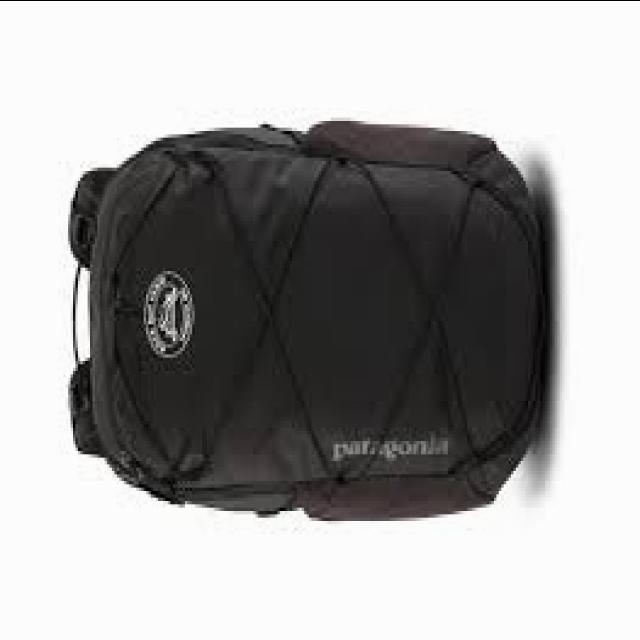backpack: (67, 121, 547, 525)
